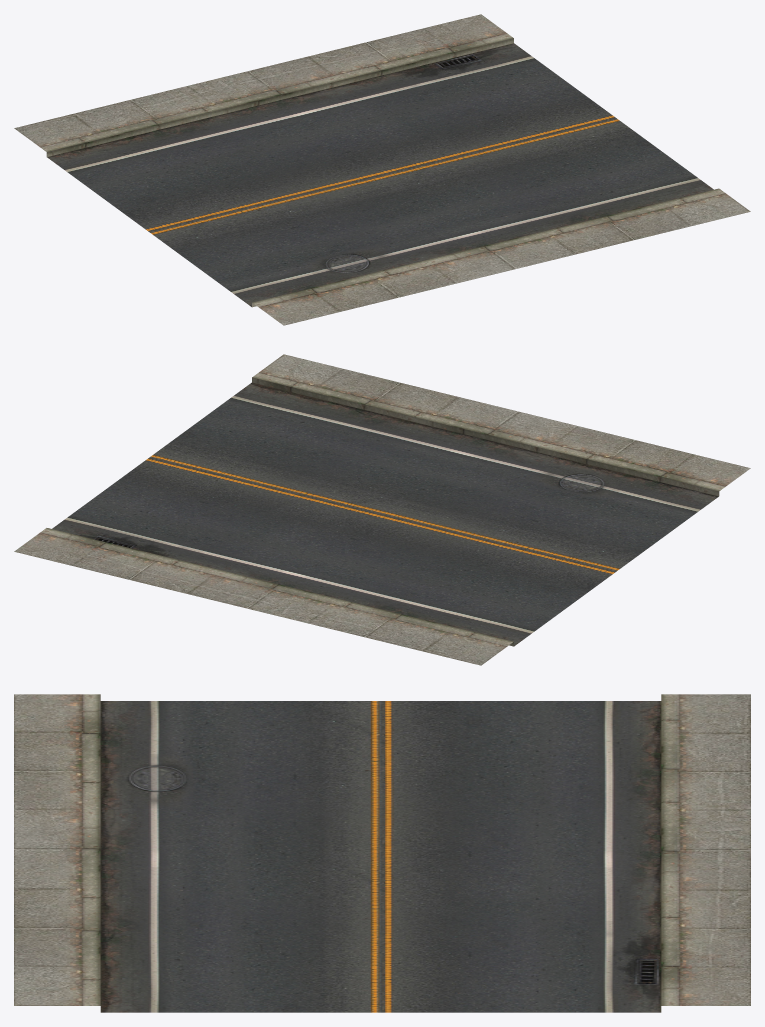
Rendered from Road_02.fbx.
3 renders of one model, top to bottom at view 1: azimuth 30°, elevation 25°; view 2: azimuth 150°, elevation 25°; view 3: azimuth 270°, elevation 25°, orthographic. The views are drawn at different scales.
Parts seen in each view (by area): view 1: Component_1_1; view 2: Component_1_1; view 3: Component_1_1.
Part boxes in pixels (box(x1,y1,x2,y2)): Component_1_1: box(14, 14, 750, 325); Component_1_1: box(14, 354, 750, 665); Component_1_1: box(14, 694, 750, 1012).
Bounding box in the file's own units: 1000 × 10 × 1000.
